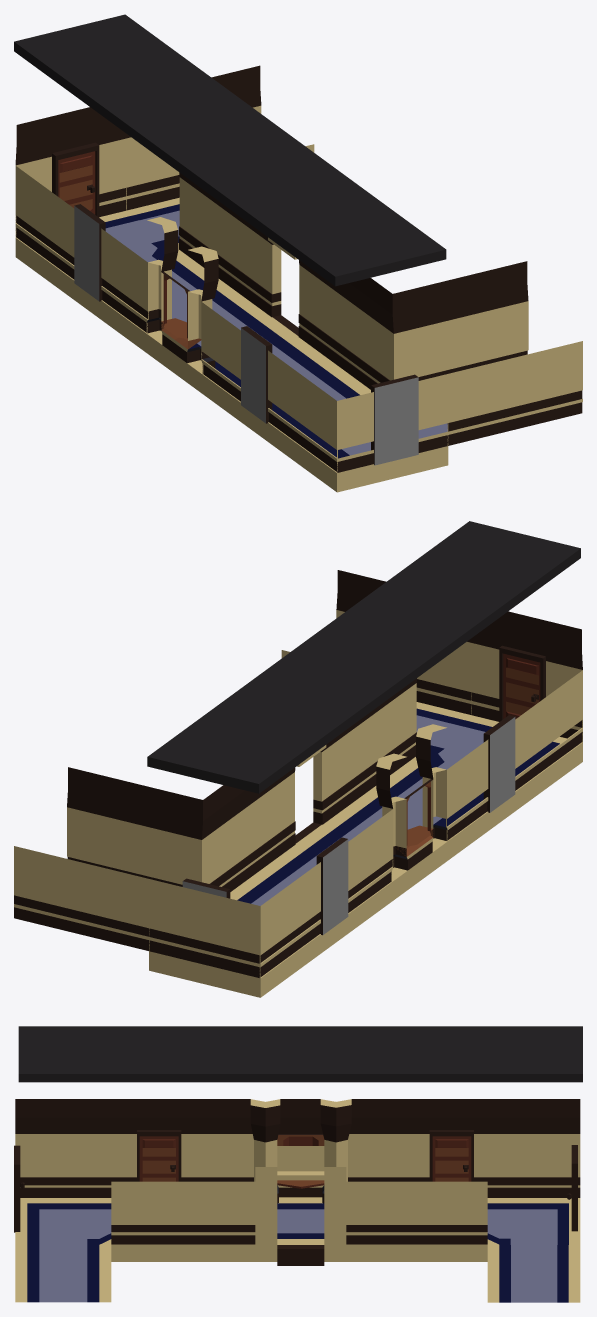
The model's file is elbowedHallway2.fbx.
3 views of the same model, one above another, from view 1: azimuth 30°, elevation 25°; view 2: azimuth 150°, elevation 25°; view 3: azimuth 270°, elevation 25° (orthographic). The views are drawn at different scales.
Parts seen in each view (by area): view 1: hallway, Cube.001; view 2: hallway, Cube.001; view 3: hallway, Cube.001.
Part boxes in pixels (left/top/right/bottom): hallway: left=15, top=65, right=582, bottom=492; Cube.001: left=14, top=14, right=446, bottom=286; hallway: left=14, top=570, right=582, bottom=997; Cube.001: left=147, top=521, right=580, bottom=793; hallway: left=14, top=1099, right=580, bottom=1302; Cube.001: left=18, top=1026, right=582, bottom=1082.
Size of the model in its own units: 674 by 552 by 1513.
